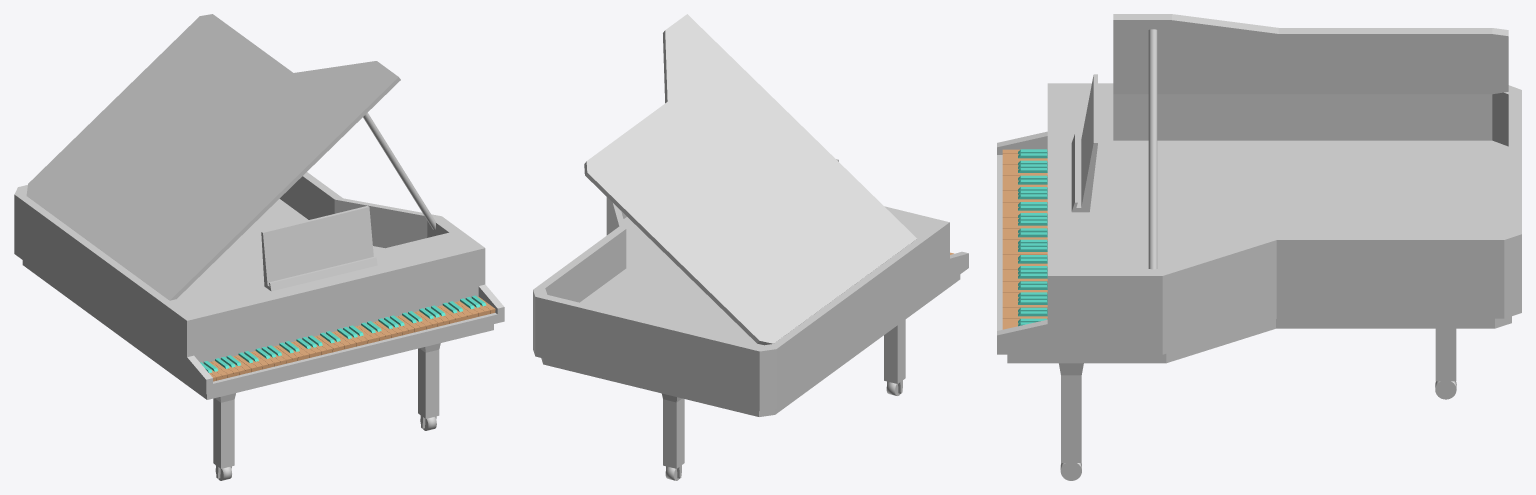
File: piano.fbx
The picture shows the model from 3 angles, left to right: view 1: azimuth 30°, elevation 25°; view 2: azimuth 150°, elevation 25°; view 3: azimuth 270°, elevation 25°; orthographic projection. The views are drawn at different scales.
Parts seen in each view (by area): view 1: Cube.001; view 2: Cube.001; view 3: Cube.001.
Part boxes in pixels (x1=…): Cube.001: x1=14, y1=14, x2=504, y2=480; Cube.001: x1=533, y1=14, x2=968, y2=480; Cube.001: x1=997, y1=14, x2=1521, y2=480.
Size of the model in its own units: 200 by 221 by 230.
